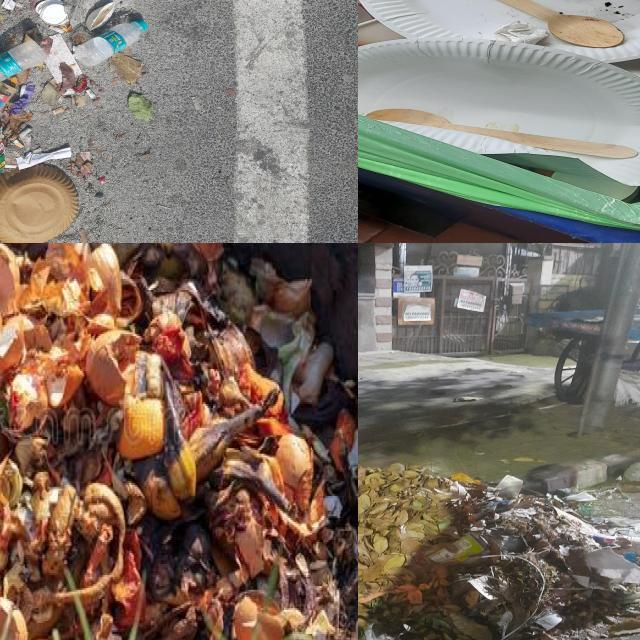Cig_bud: (191, 96, 201, 111), (18, 128, 31, 139), (48, 26, 65, 34), (86, 89, 97, 99), (13, 139, 24, 148), (52, 107, 63, 115)
Cig_pack: (0, 82, 16, 113)
Disposable: (358, 38, 640, 186), (360, 0, 640, 63), (497, 610, 513, 638)
Garbage: (0, 243, 358, 640), (358, 0, 640, 200), (358, 464, 640, 640)
Plastic_Bag: (495, 475, 522, 499), (365, 624, 387, 640)
Plastic_bottle: (73, 19, 148, 66), (0, 40, 47, 82)
Plastic_wraper: (427, 534, 486, 562), (11, 84, 35, 114), (74, 151, 95, 174), (34, 34, 52, 55)
